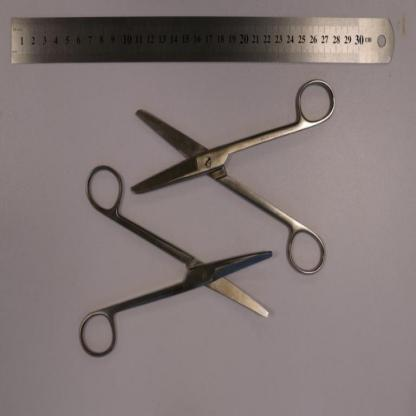Curved Mayo Scissors: (132, 76, 336, 278)
Dressing Scissors: (79, 163, 274, 359)
